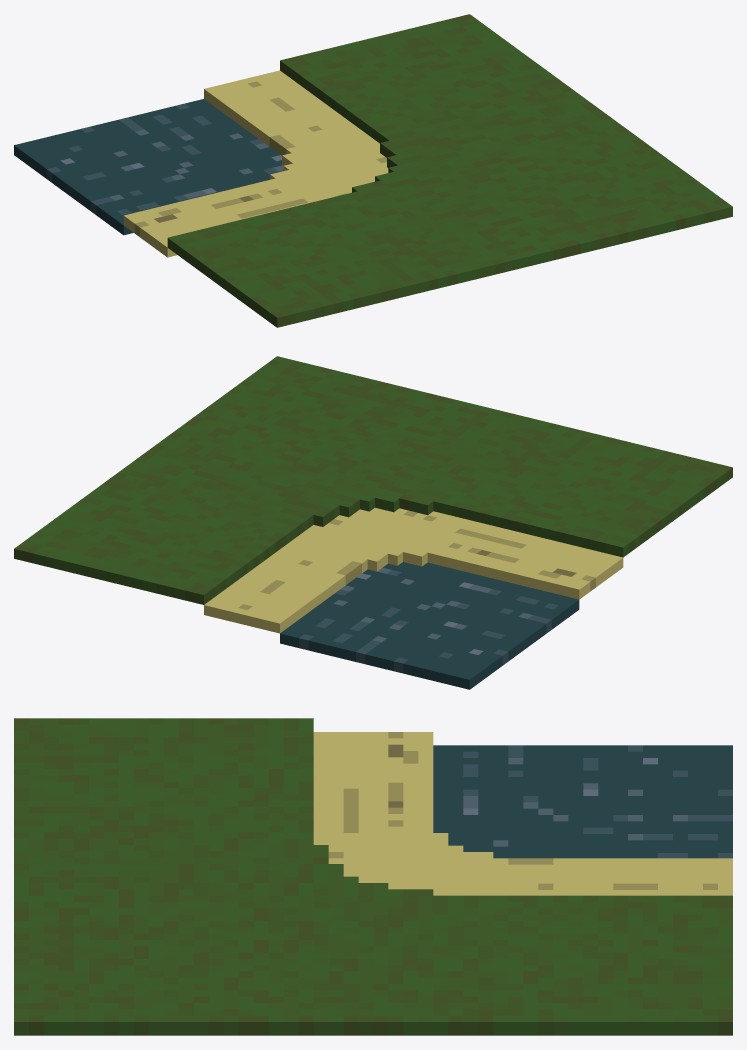
The model's file is tile-3-shore_water_corner.obj.
3 renders of one model, top to bottom at view 1: azimuth 30°, elevation 25°; view 2: azimuth 150°, elevation 25°; view 3: azimuth 270°, elevation 25°, orthographic. The views are drawn at different scales.
Visible parts, largest first — view 1: shore_water_corner; view 2: shore_water_corner; view 3: shore_water_corner.
Boxes of the visible parts, <box> form: shore_water_corner: <box>14,14,732,327</box>; shore_water_corner: <box>14,356,732,689</box>; shore_water_corner: <box>14,718,732,1035</box>.
Bounding box in the file's own units: 4.8 × 0.3 × 4.8.
1 material, 1 textured.
